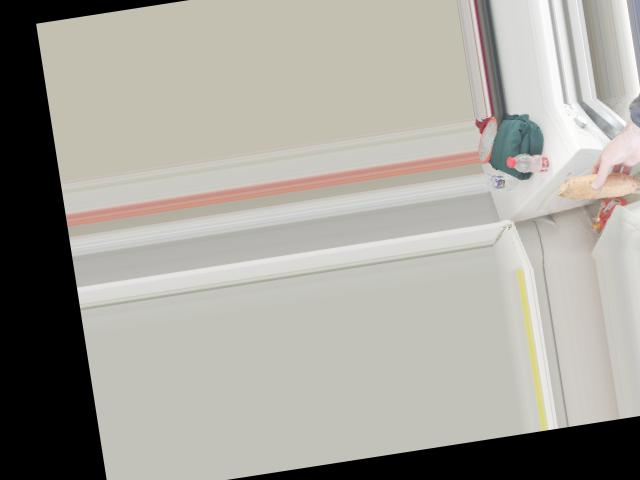sweet_potato: (564, 161, 640, 203)
